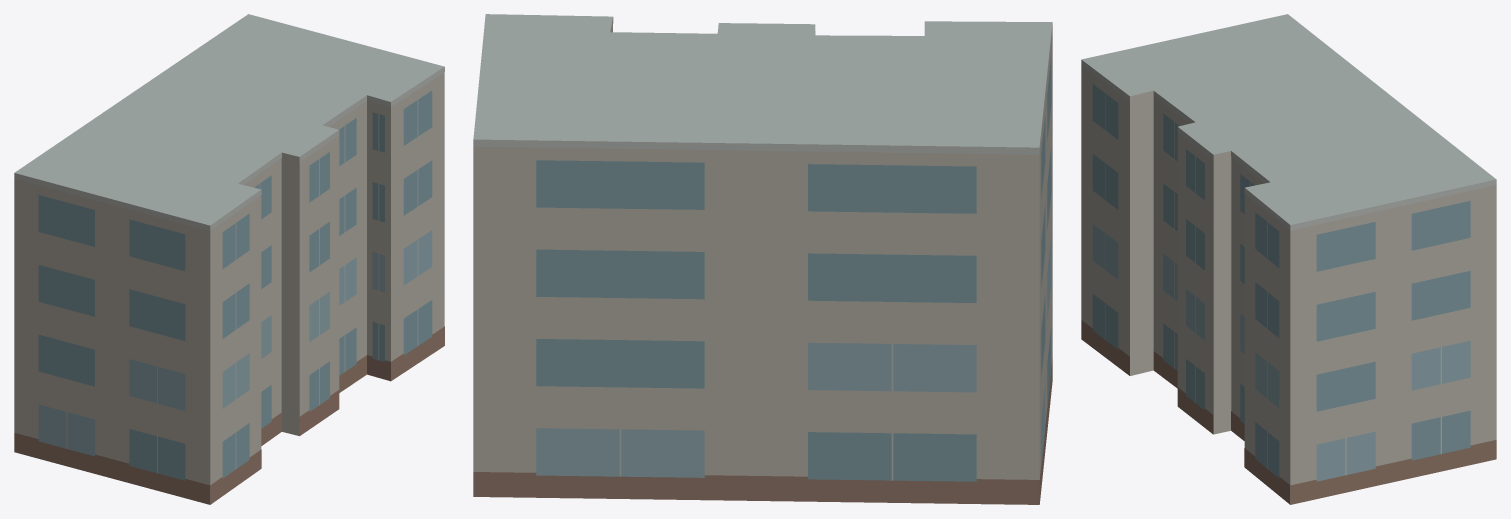
File: survey-upis-32763806.glb
The picture shows the model from 3 angles, left to right: view 1: azimuth 30°, elevation 25°; view 2: azimuth 150°, elevation 25°; view 3: azimuth 270°, elevation 25°; orthographic projection. The views are drawn at different scales.
Parts seen in each view (by area): view 1: survey-upis-32763806.tmp; view 2: survey-upis-32763806.tmp; view 3: survey-upis-32763806.tmp.
Part boxes in pixels (<box>): survey-upis-32763806.tmp: <box>14,14,444,504</box>; survey-upis-32763806.tmp: <box>473,14,1052,504</box>; survey-upis-32763806.tmp: <box>1081,14,1496,504</box>.
Size of the model in its own units: 19.75 by 12.2 by 16.42.
